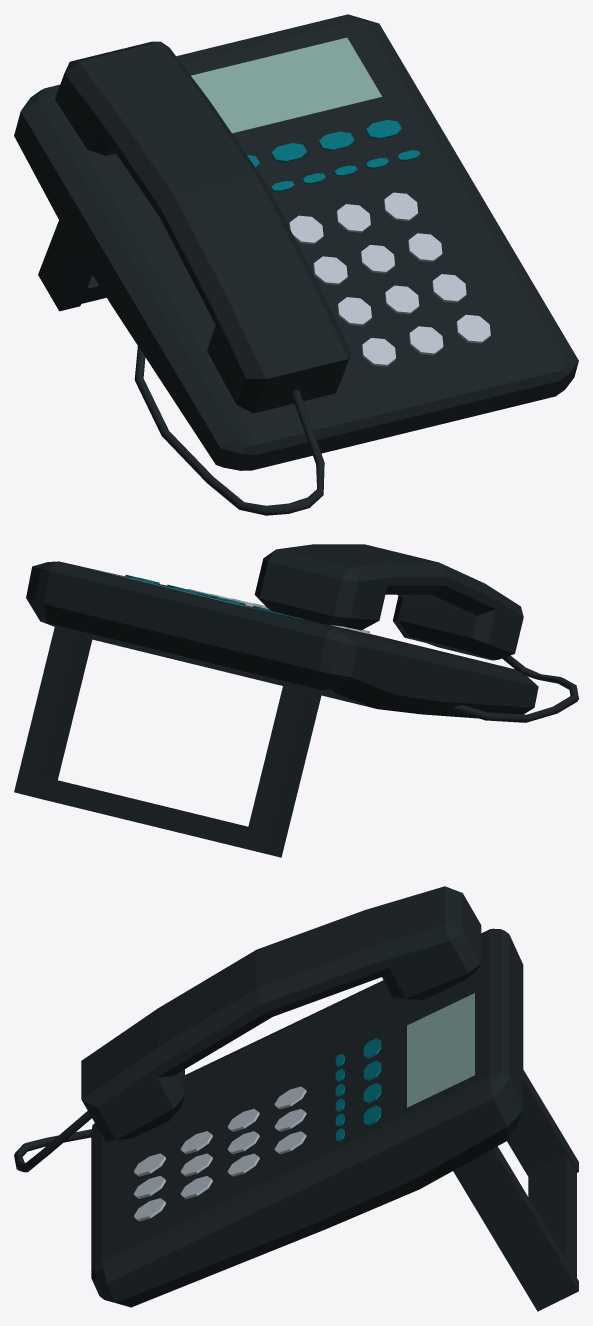
File: Phone.fbx
3 renders of one model, top to bottom at view 1: azimuth 30°, elevation 25°; view 2: azimuth 150°, elevation 25°; view 3: azimuth 270°, elevation 25°, orthographic. The views are drawn at different scales.
Visible parts, largest first — view 1: Phone_01; view 2: Phone_01; view 3: Phone_01.
Boxes of the visible parts, <box> form: Phone_01: <box>14,14,578,515</box>; Phone_01: <box>14,544,578,857</box>; Phone_01: <box>14,886,578,1311</box>.
Size of the model in its own units: 18.22 by 13.25 by 24.
